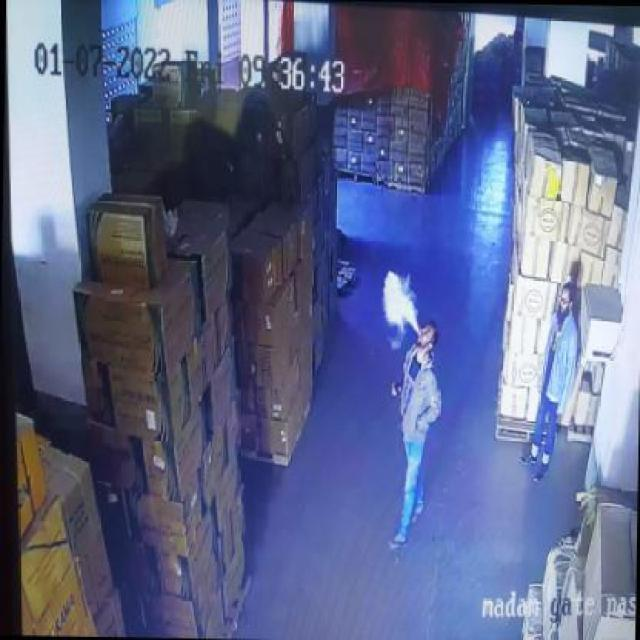fire: (380, 266, 422, 336)
